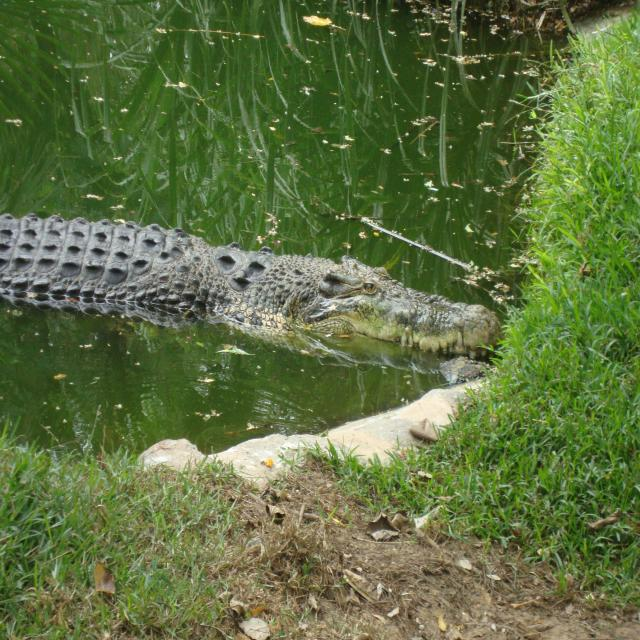crocodile: (6, 212, 507, 361)
